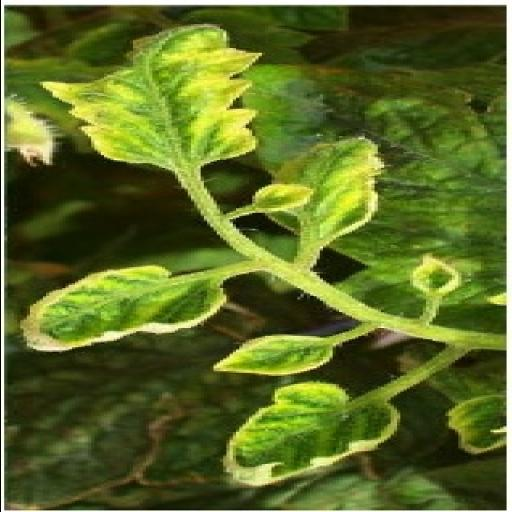Yellow Leaf Curl Virus: (36, 22, 262, 170), (16, 258, 228, 354), (209, 381, 401, 485), (260, 134, 386, 252), (202, 330, 340, 374)
